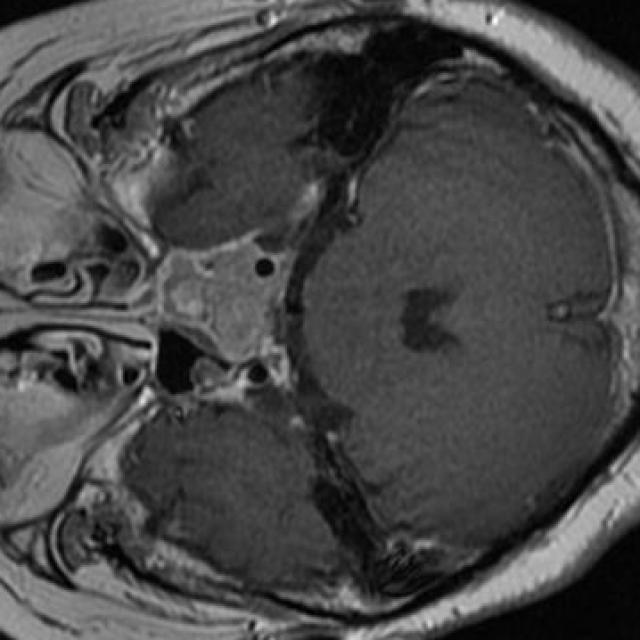pituitary: (153, 241, 291, 364)
